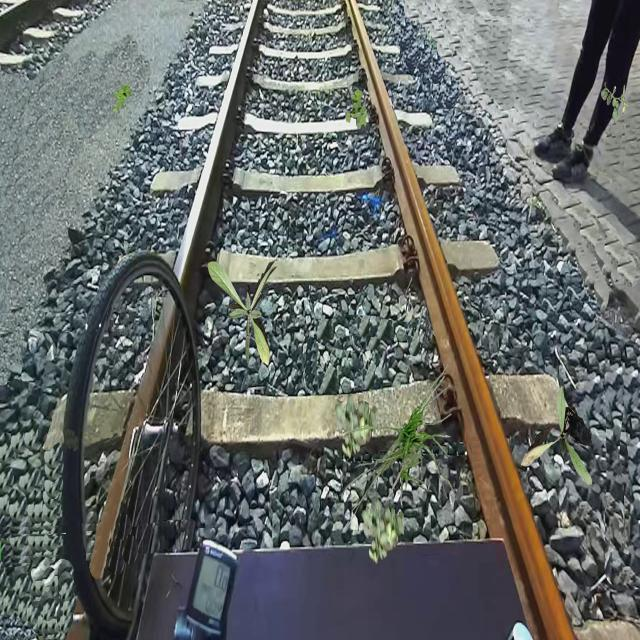Plant: (340, 364, 458, 528), (207, 259, 278, 367), (521, 386, 592, 486), (335, 393, 378, 460), (361, 498, 404, 564), (601, 82, 628, 123), (345, 89, 369, 130), (112, 81, 132, 114)
